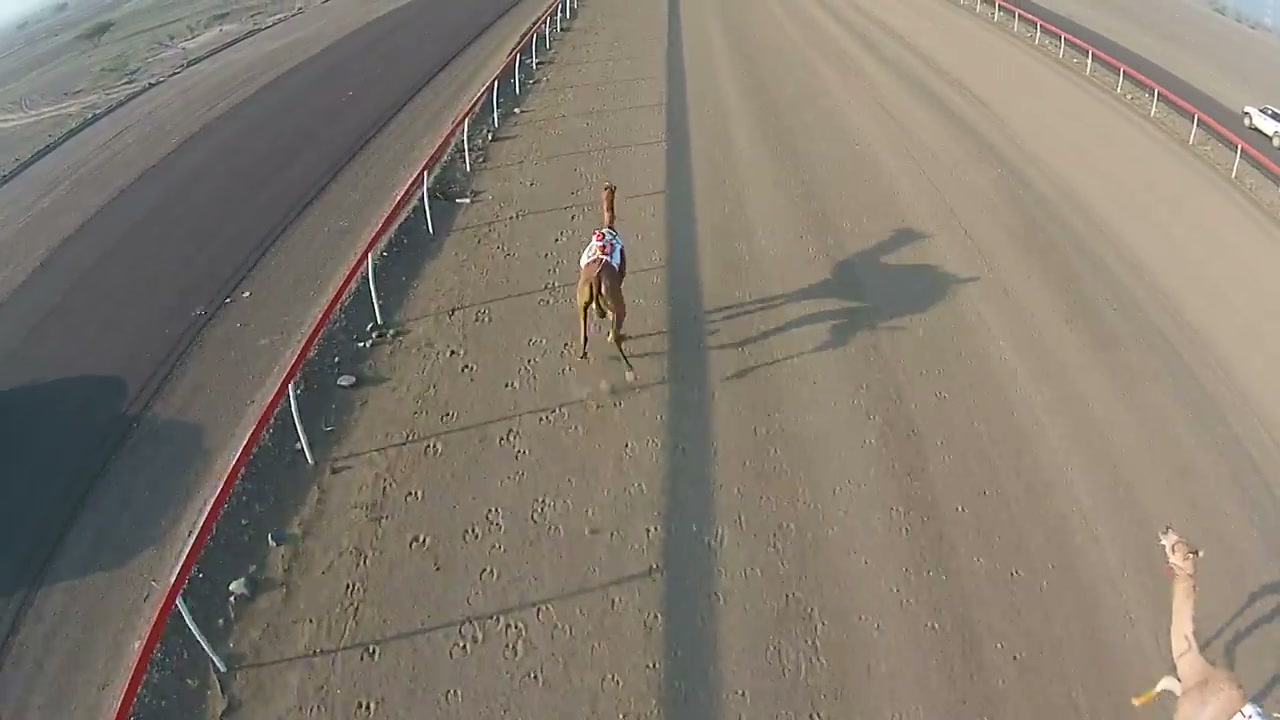animal_footprint: (360, 209, 566, 719), (442, 420, 595, 708)
